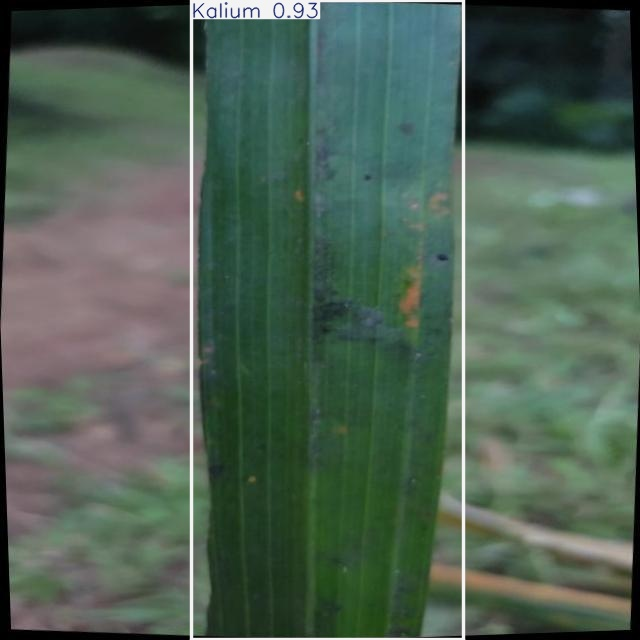Kalium: (192, 1, 463, 640)
